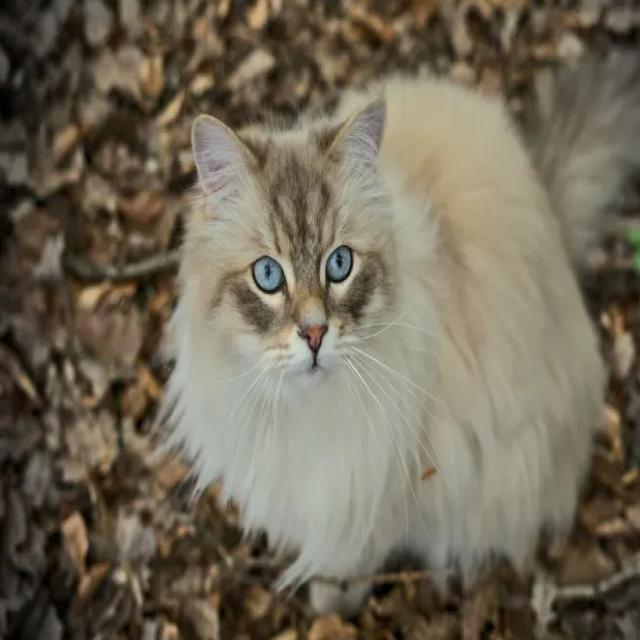Neva Masquerade: (165, 28, 640, 612)
